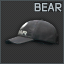BEAR baseball cap Black: (0, 0, 64, 64)
